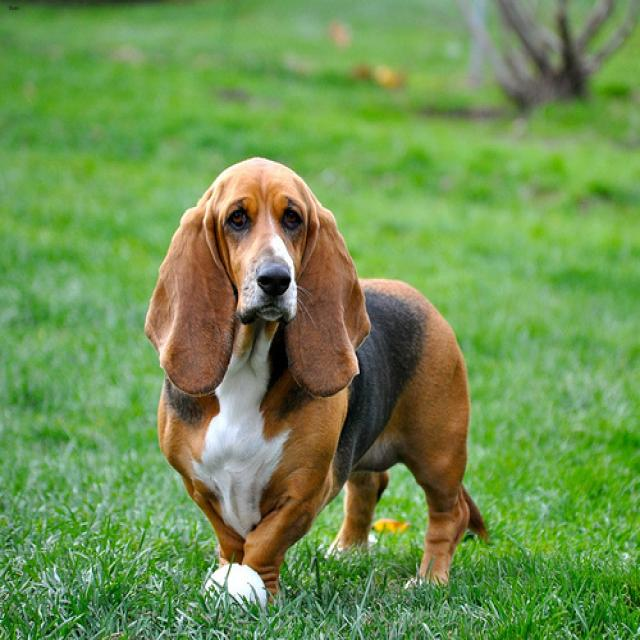dog-basset_hound: (138, 151, 502, 608)
